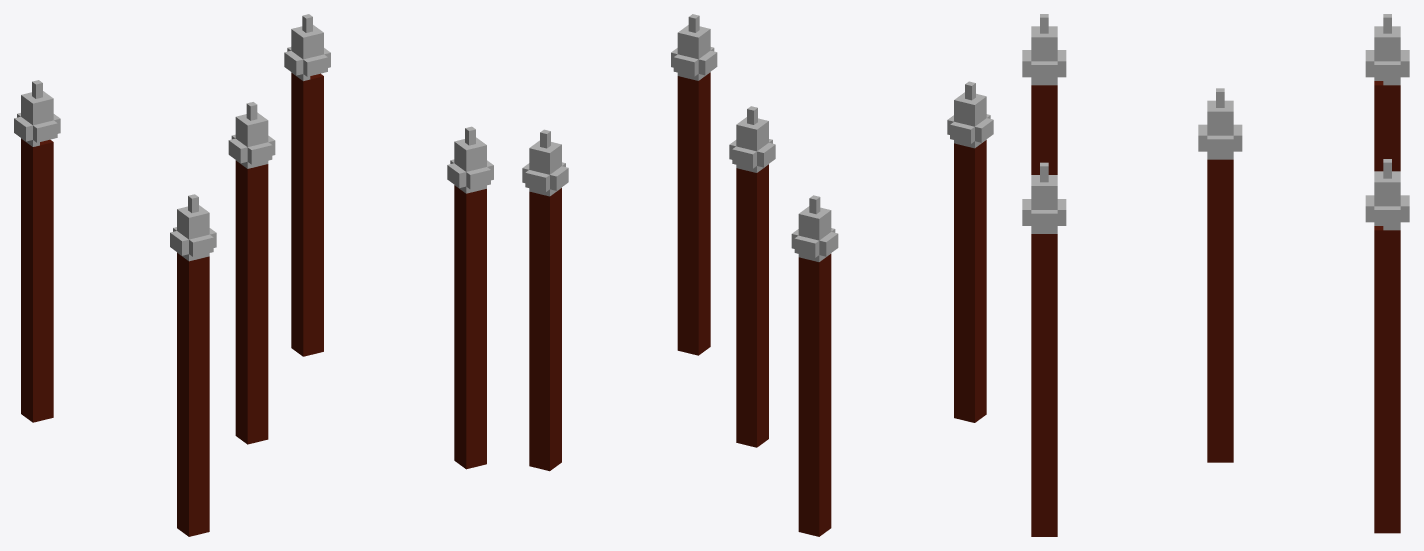
File: chang.obj
The picture shows the model from 3 angles, left to right: view 1: azimuth 30°, elevation 25°; view 2: azimuth 150°, elevation 25°; view 3: azimuth 270°, elevation 25°; orthographic projection. The views are drawn at different scales.
Visible parts, largest first — view 1: chang; view 2: chang; view 3: chang.
Boxes of the visible parts, <box> form: chang: <box>14,14,493,536</box>; chang: <box>522,14,993,536</box>; chang: <box>1022,14,1409,536</box>.
Bounding box in the file's own units: 45 × 46 × 44.
1 material, 1 textured.
